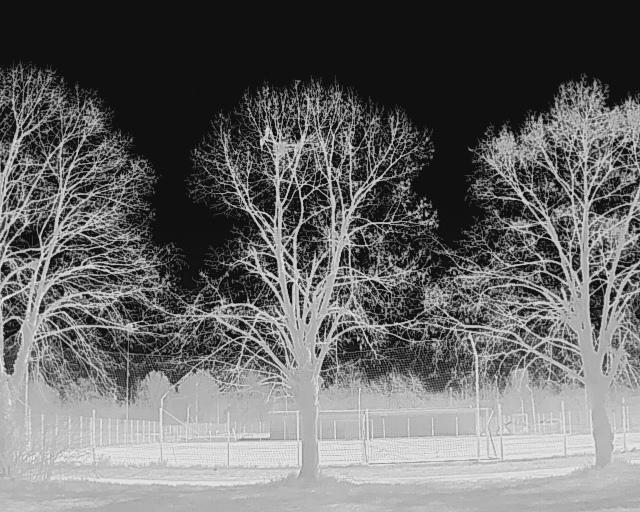drone: (260, 128, 312, 170)
